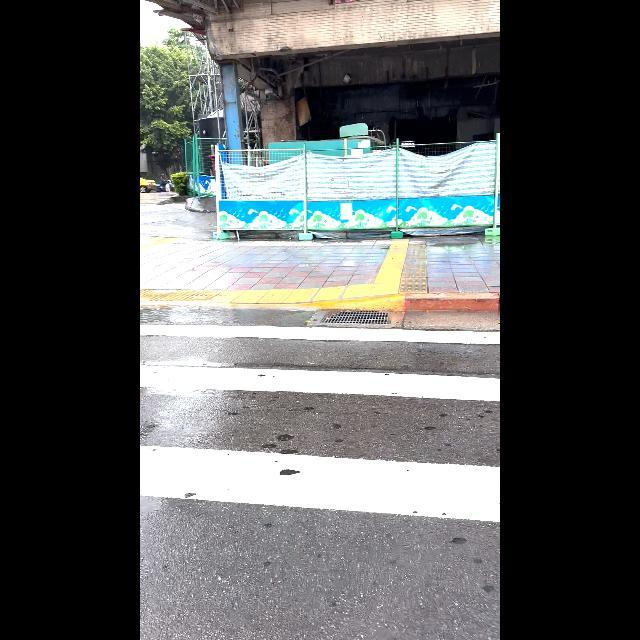sidewalk: (141, 324, 500, 523)
